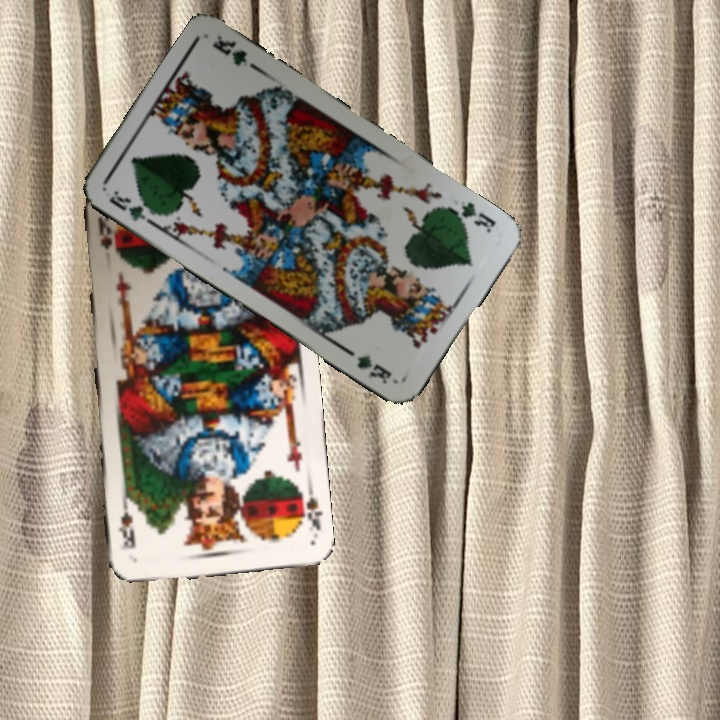GK: (442, 196, 499, 236), (104, 186, 160, 226)
SK: (294, 485, 324, 534), (93, 211, 114, 253)
